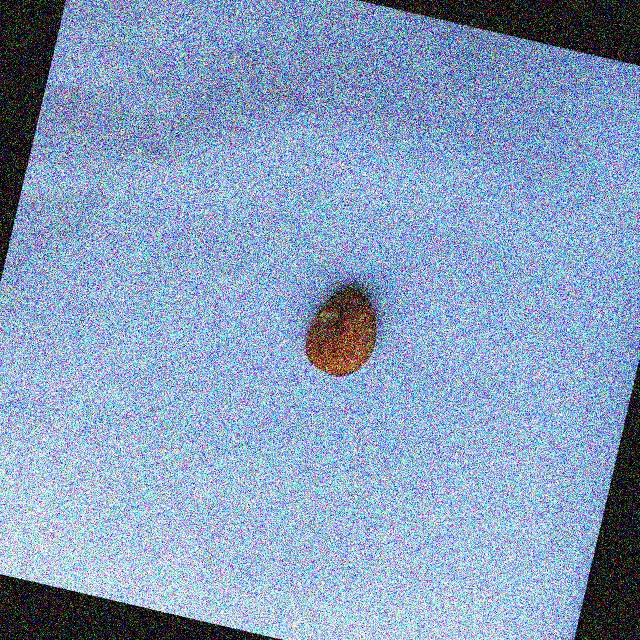grade3: (294, 275, 389, 388)
